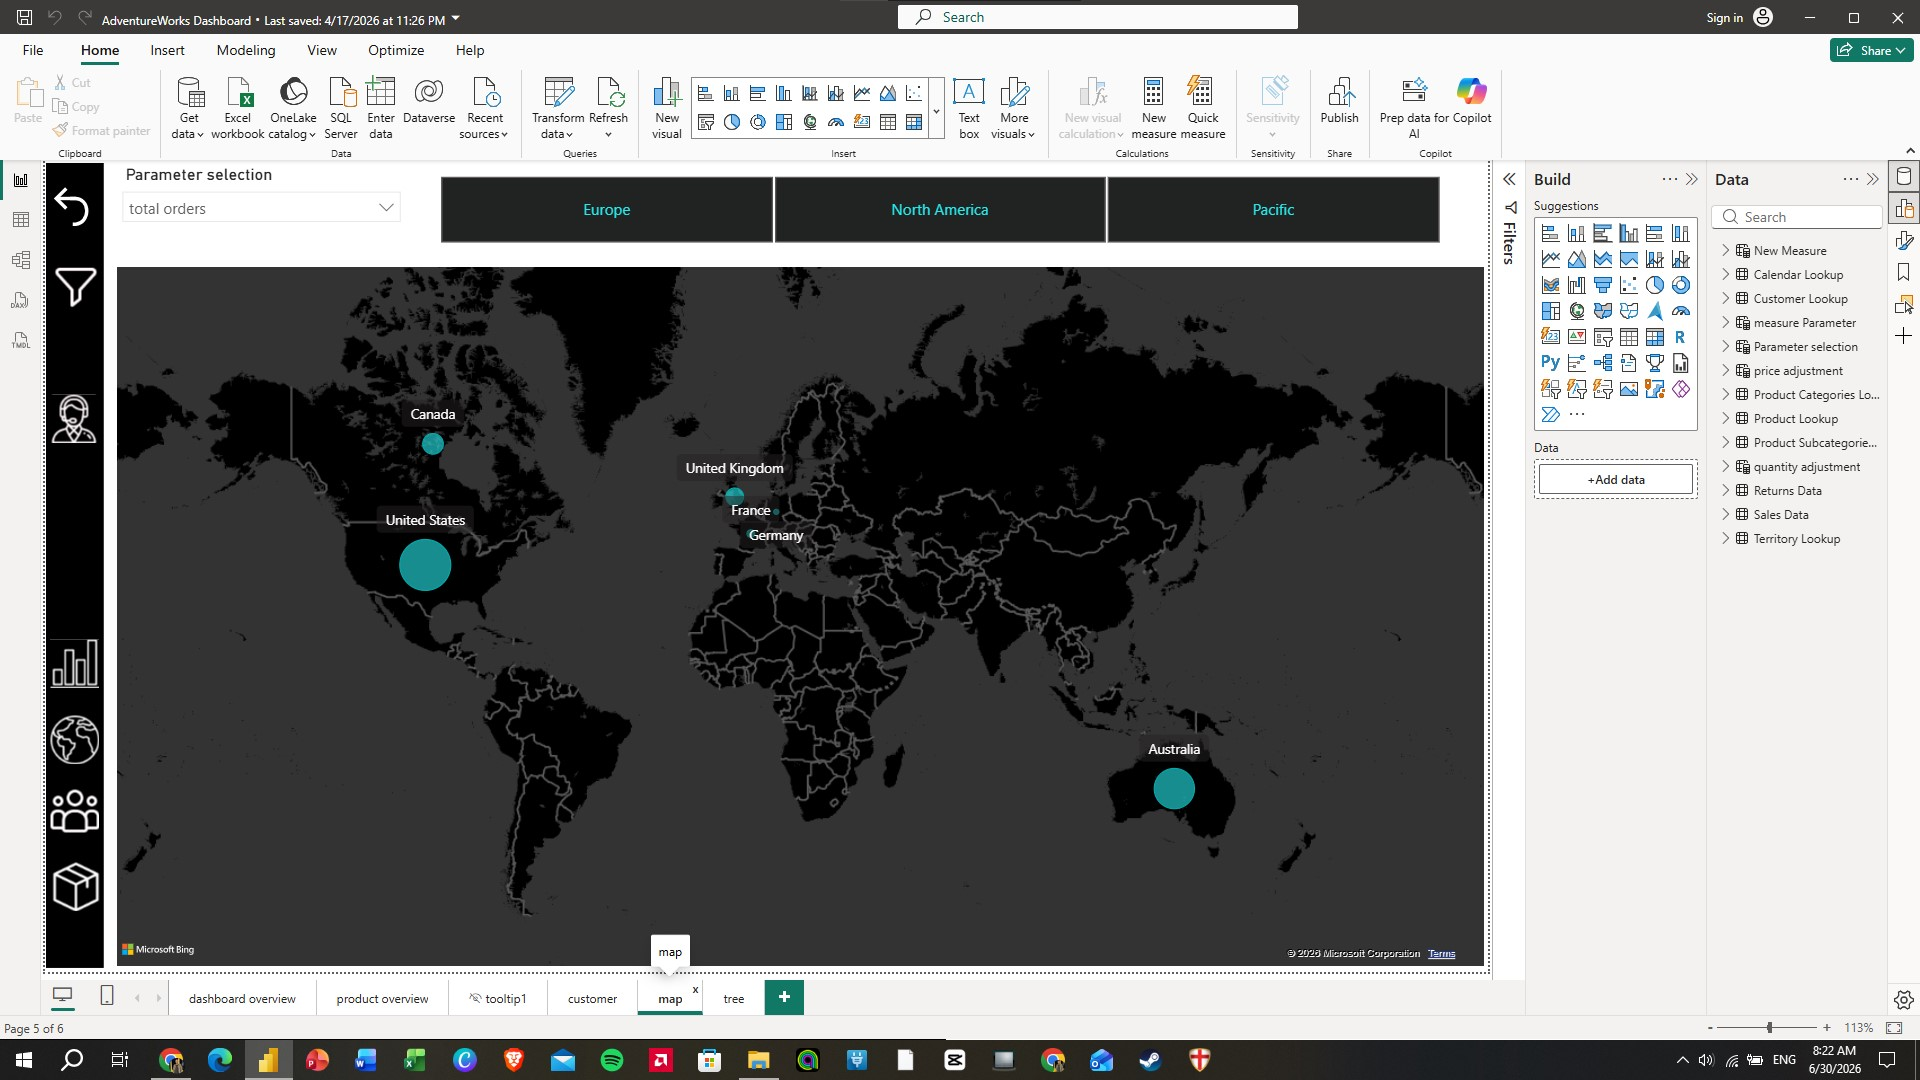

The dashboard page shown, as its layout file describes it:
{"tool":"powerbi","page":{"name":"map","canvas":[1280,720],"ordinal":4},"visuals":[{"type":"group","id":"g1","title":"Group 6","box":[1,3,52.4,713.6],"z":0,"group":"g2"},{"type":"shape","title":"side bar","box":[1,3,51.4,713.6],"z":0,"group":"g1"},{"type":"map","fields":{"Category":["Territory Lookup.Country"],"Size":["New Measure.total orders"]},"box":[58.5,89.7,1221.5,629.9],"z":0},{"type":"slicer","title":"parameter customer","fields":{"Values":["Parameter selection.Parameter selection"]},"box":[58.5,0,266.9,79.8],"z":1000},{"type":"actionButton","title":"back","box":[1,18.8,52.3,45.2],"z":1000,"group":"g1"},{"type":"actionButton","box":[0,196.5,51.4,67.5],"z":1000,"group":"g2"},{"type":"slicer","fields":{"Values":["Territory Lookup.Continent"]},"box":[325.4,8,934.6,71.8],"z":2000},{"type":"actionButton","title":"map button","box":[1,480.8,51.4,67.4],"z":2000,"group":"g1"},{"type":"group","id":"g2","title":"toolbar","box":[0,3,53.4,713.6],"z":3000},{"type":"actionButton","title":"dashboard","box":[1,413.4,51.4,67.4],"z":3000,"group":"g1"},{"type":"actionButton","title":"customer","box":[1,543.7,51.4,67.4],"z":4000,"group":"g1"},{"type":"actionButton","title":"product","box":[1.9,611.1,51.4,67.4],"z":5000,"group":"g1"},{"type":"actionButton","box":[2,84.6,51.4,54.4],"z":6000,"group":"g1"}]}

Visuals, with their boxes on the page's 1280x720 design canvas (x1, y1, x2, y2). These are canvas units, not pixel positions in the 1920x1080 screenshot, which may show the page scaled, cropped or inside an application window:
"Group 6" group: <bbox>1, 3, 53, 717</bbox>
"side bar" shape: <bbox>1, 3, 52, 717</bbox>
map - Territory Lookup.Country x New Measure.total orders: <bbox>58, 90, 1280, 720</bbox>
"parameter customer" slicer: <bbox>58, 0, 325, 80</bbox>
"back" actionButton: <bbox>1, 19, 53, 64</bbox>
actionButton: <bbox>0, 196, 51, 264</bbox>
slicer - Territory Lookup.Continent: <bbox>325, 8, 1260, 80</bbox>
"map button" actionButton: <bbox>1, 481, 52, 548</bbox>
"toolbar" group: <bbox>0, 3, 53, 717</bbox>
"dashboard" actionButton: <bbox>1, 413, 52, 481</bbox>
"customer" actionButton: <bbox>1, 544, 52, 611</bbox>
"product" actionButton: <bbox>2, 611, 53, 678</bbox>
actionButton: <bbox>2, 85, 53, 139</bbox>
